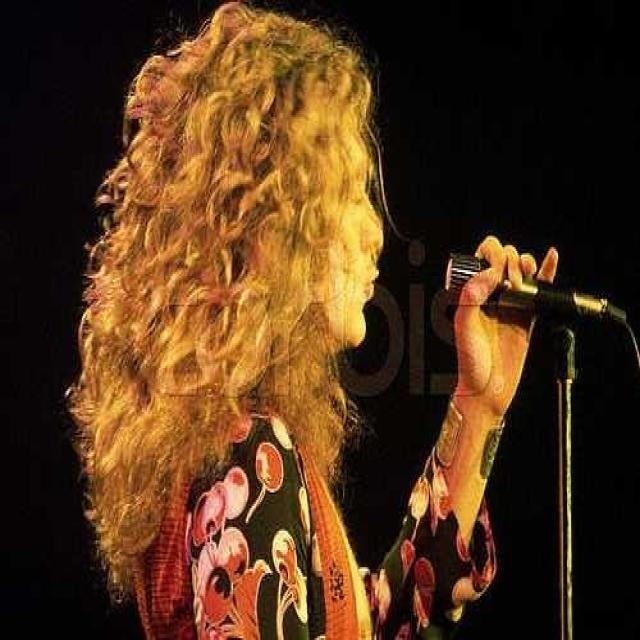microphone: (439, 250, 635, 343)
